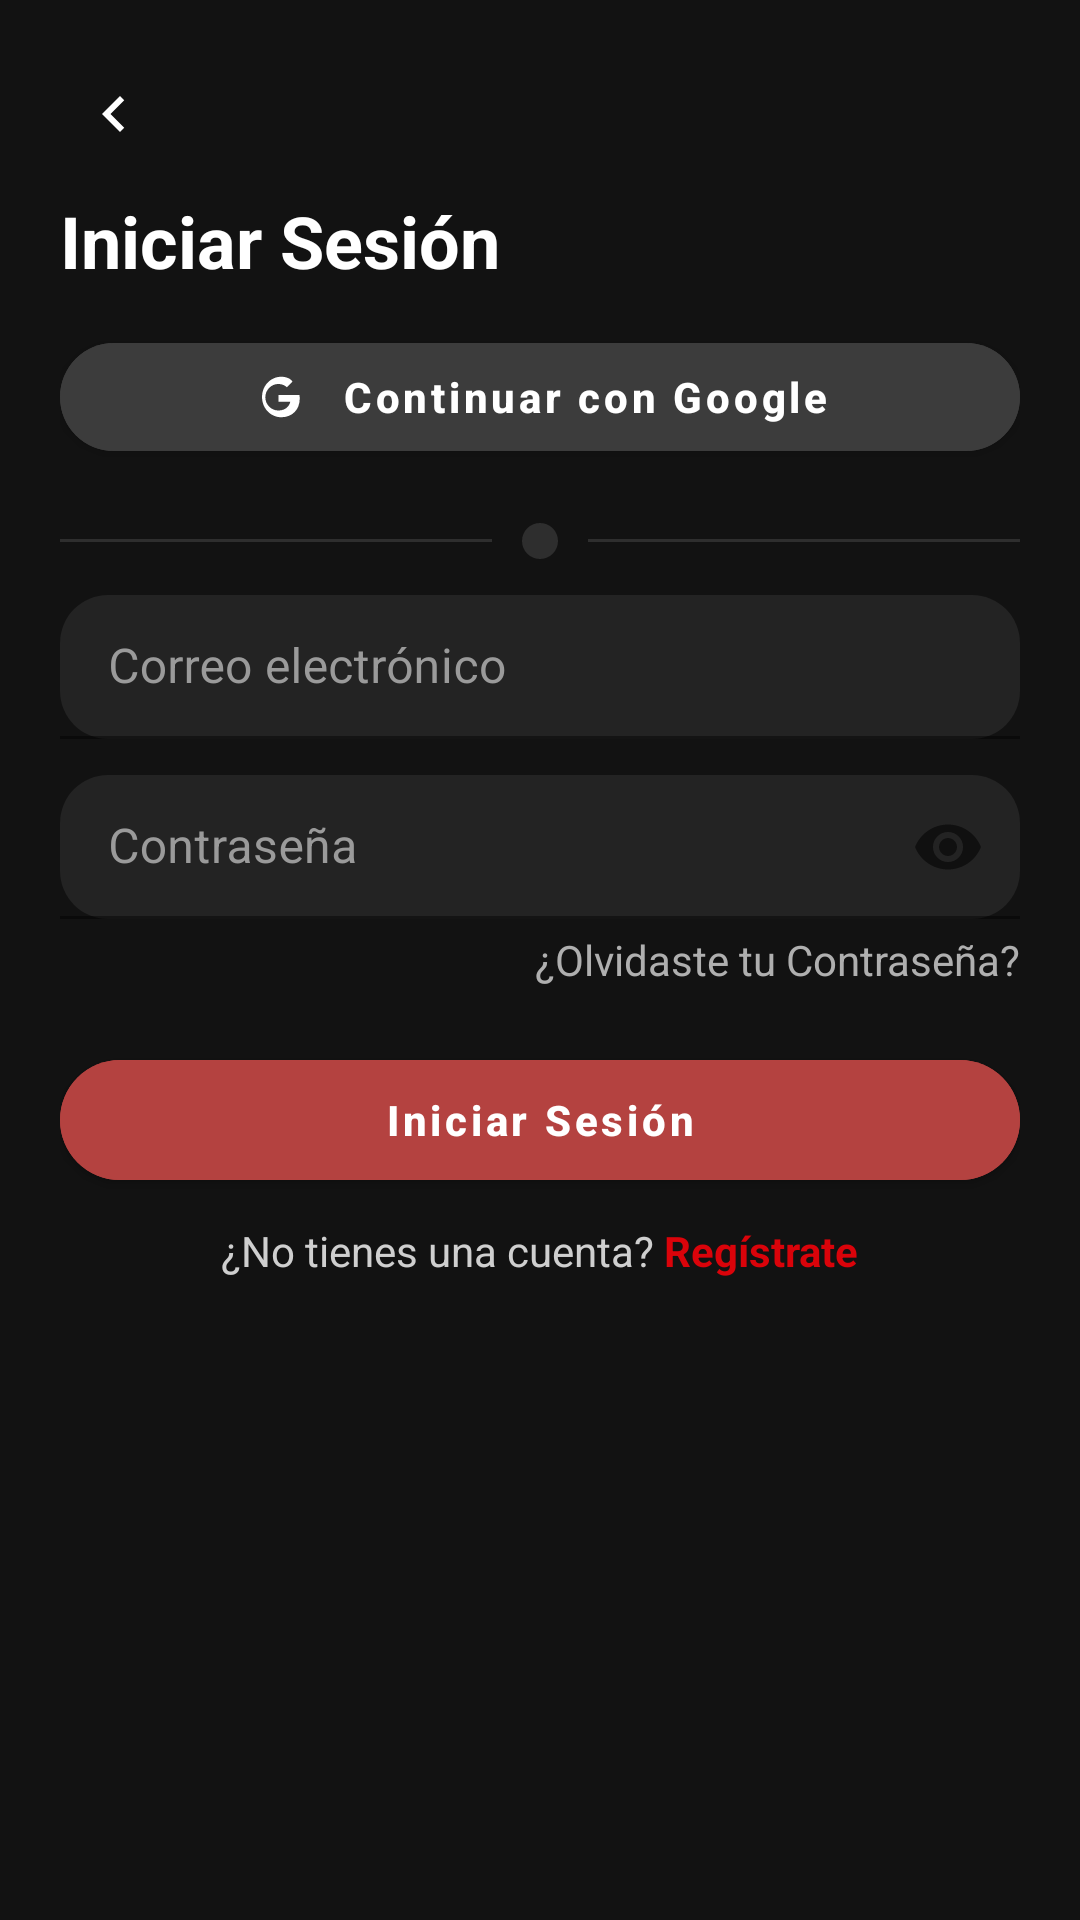

Icons on this 1080w x 1920h Android screen, each with the point to tap as (x,y):
back chevron: (113,114)
